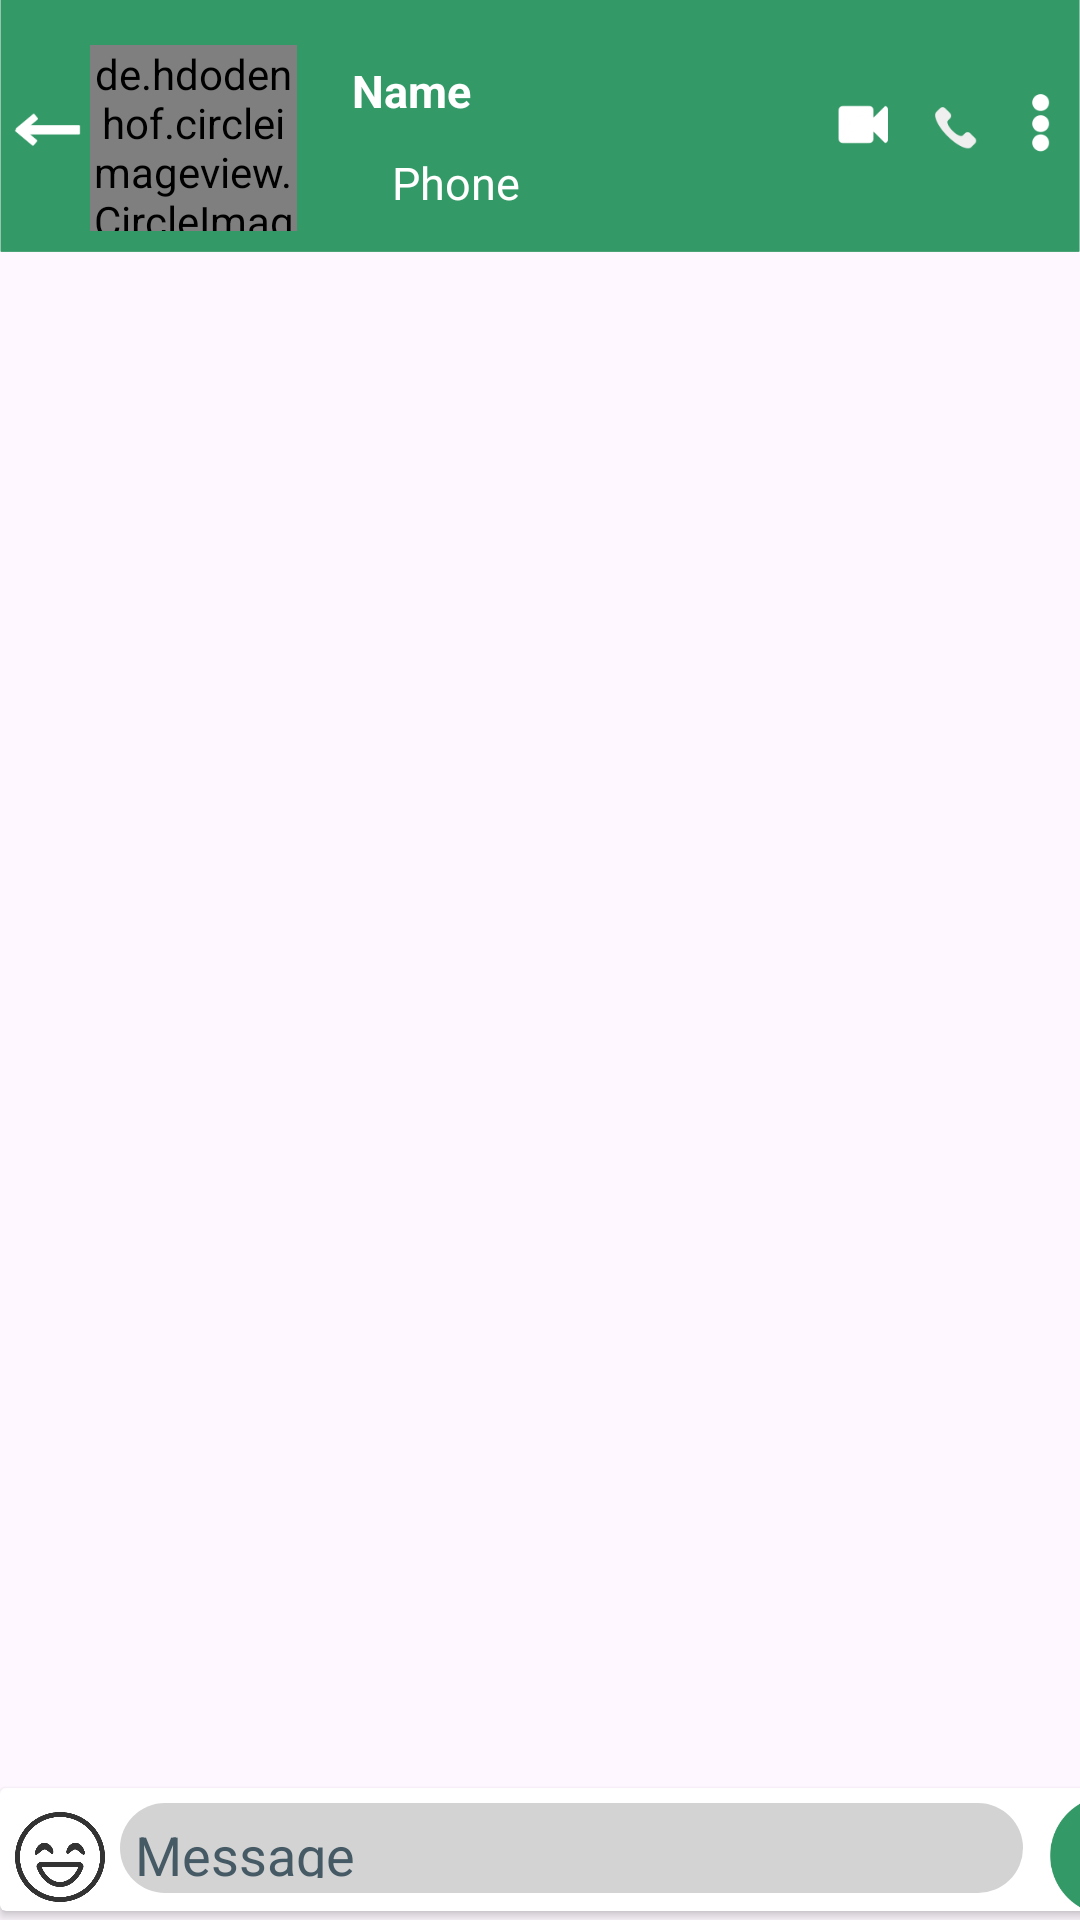

Where icons sit on this 1080w x 1920h app screen, as BBox(x1, y1, x2, y2):
emoji: BBox(15, 1812, 105, 1902)
